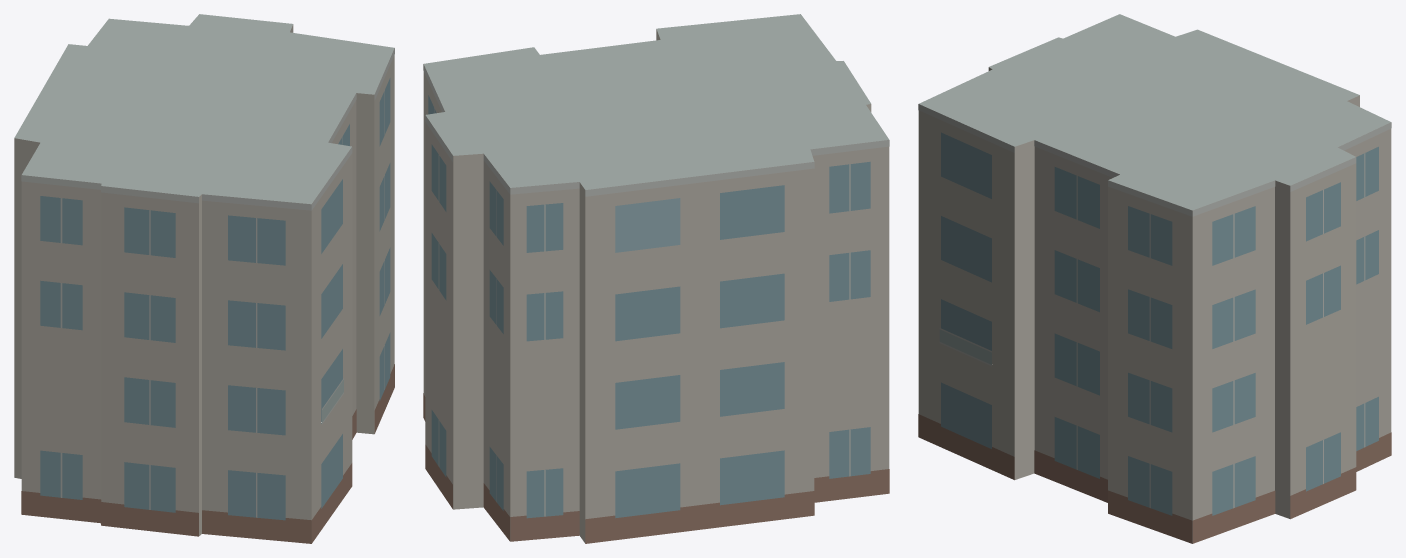
File: survey-upis-32957282.glb
The picture shows the model from 3 angles, left to right: view 1: azimuth 30°, elevation 25°; view 2: azimuth 150°, elevation 25°; view 3: azimuth 270°, elevation 25°; orthographic projection. The views are drawn at different scales.
Visible parts, largest first — view 1: survey-upis-32957282.tmp; view 2: survey-upis-32957282.tmp; view 3: survey-upis-32957282.tmp.
Boxes of the visible parts, x1,y1,x2,y2 form: survey-upis-32957282.tmp: (14, 14, 394, 543); survey-upis-32957282.tmp: (423, 14, 889, 543); survey-upis-32957282.tmp: (918, 14, 1391, 543).
Bounding box in the file's own units: 16.32 × 12.9 × 16.59.
